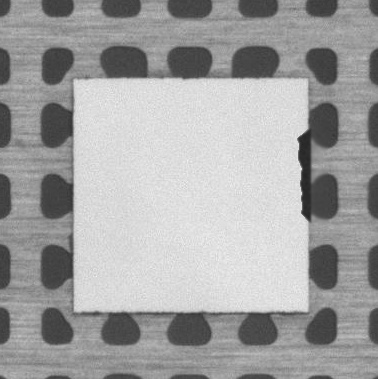DIE_BROKEN: (295, 130, 313, 228)
